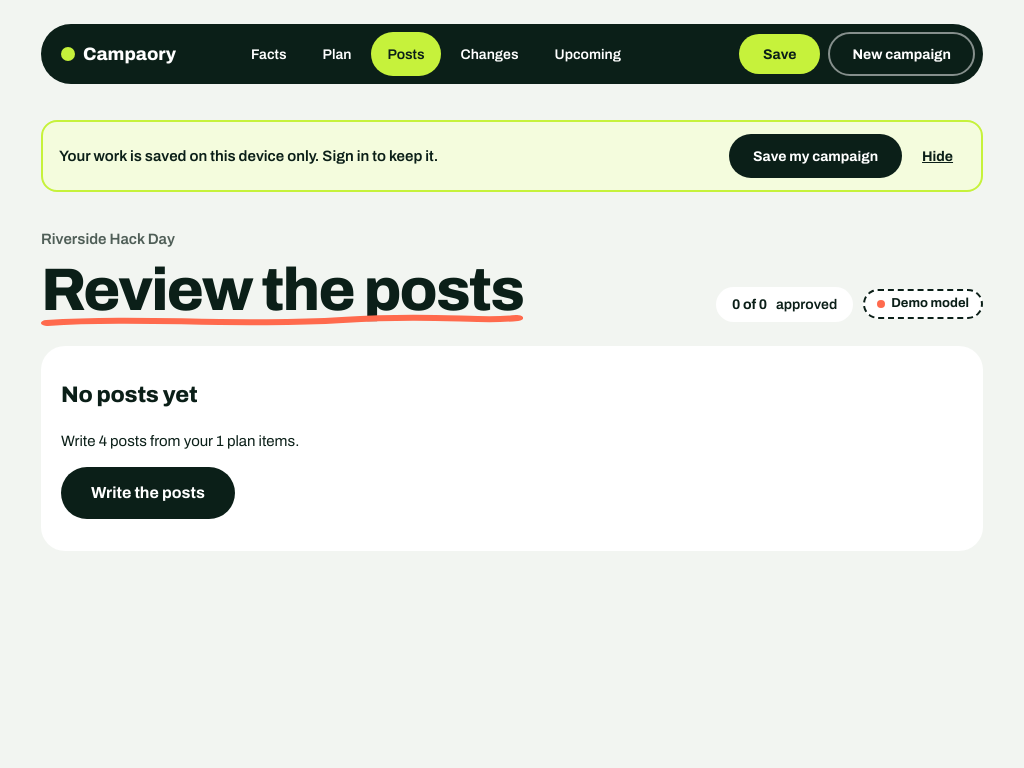
Test case: posts › failed items are listed with Retry these
Click the button "Write the posts": (148, 493) top-left (61, 467), bottom-right (235, 519)
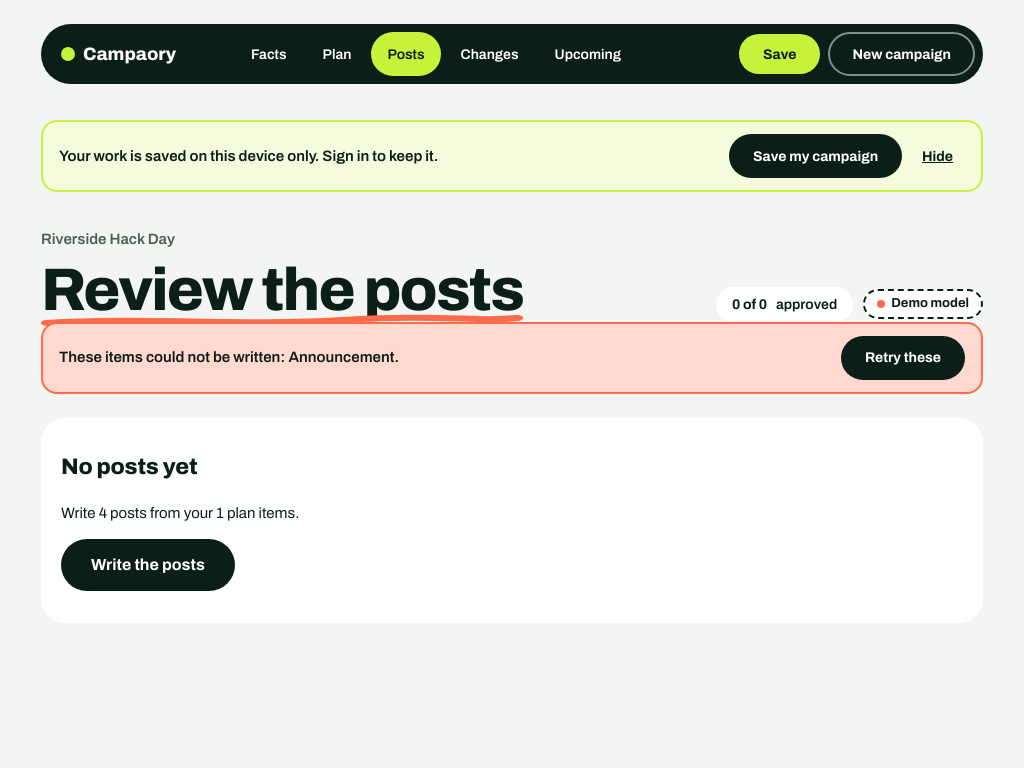
Result: the text "These items could not be written: Announcement." is shown at top-left (59, 346), bottom-right (399, 369)
Result: the button "Retry these" is shown at top-left (841, 336), bottom-right (965, 380)
